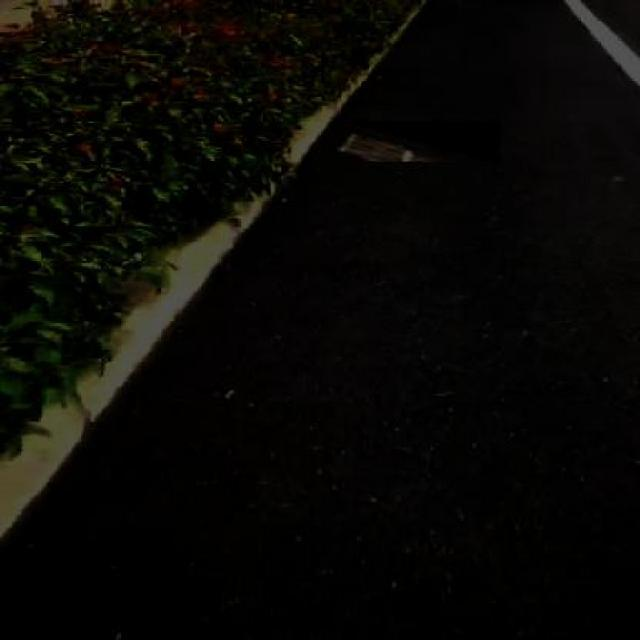Manhole: (338, 120, 500, 162)
